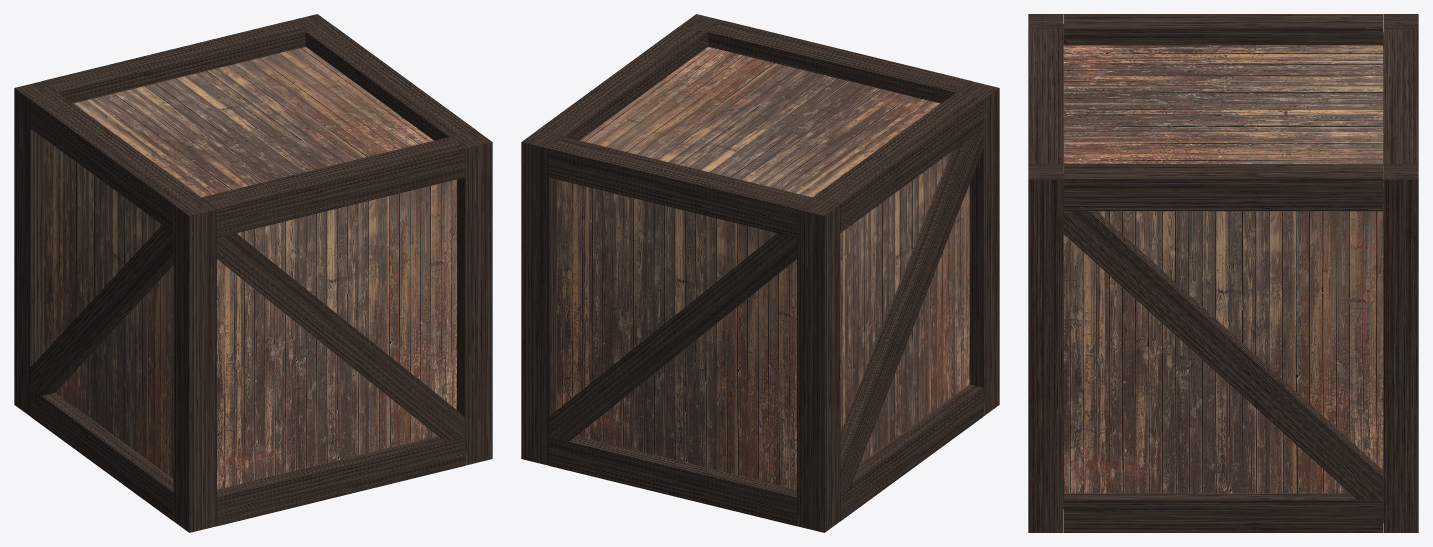
3 renders of one model, left to right at view 1: azimuth 30°, elevation 25°; view 2: azimuth 150°, elevation 25°; view 3: azimuth 270°, elevation 25°, orthographic. The views are drawn at different scales.
Visible parts, largest first — view 1: もとの, 横, 横_3, たて_2_3, naname, たて_2_2, 横_2, たて, たて_1_2, naname_3, たて_3, たて_2; view 2: もとの, 横_2, 横_1, たて_1_2, naname_3, naname_1, たて_3_2, 横, たて, たて_2_3, たて_2, たて_3; view 3: もとの, naname_2, たて_2, 横_3, 横_1, たて_1, たて, たて_1_2, たて_2_3, 横_2, 横.
Boxes of the visible parts, x1,y1,x2,y2 form: もとの: (44, 47, 456, 489); 横: (173, 198, 216, 532); 横_3: (449, 130, 492, 465); たて_2_3: (201, 137, 464, 237); naname: (217, 233, 464, 441); たて_2_2: (217, 436, 464, 526); 横_2: (14, 81, 57, 415); たて: (30, 93, 200, 232); たて_1_2: (42, 20, 305, 103); naname_3: (30, 225, 173, 395); たて_3: (30, 388, 173, 521); たて_2: (306, 25, 476, 140); もとの: (557, 47, 969, 489); 横_2: (797, 198, 840, 532); 横_1: (521, 130, 564, 465); たて_1_2: (549, 137, 812, 237); naname_3: (840, 128, 983, 492); naname_1: (549, 233, 796, 441); たて_3_2: (549, 436, 796, 526); 横: (956, 81, 999, 415); たて: (813, 93, 983, 232); たて_2_3: (708, 20, 971, 103); たて_2: (537, 25, 707, 140); たて_3: (840, 384, 983, 521); もとの: (1063, 45, 1383, 508); naname_2: (1063, 174, 1383, 522); たて_2: (1064, 164, 1382, 211); 横_3: (1028, 164, 1063, 532); 横_1: (1383, 164, 1418, 532); たて_1: (1064, 493, 1382, 532); たて: (1064, 14, 1382, 45); たて_1_2: (1383, 29, 1418, 164); たて_2_3: (1028, 29, 1063, 164); 横_2: (1383, 14, 1418, 28); 横: (1028, 14, 1063, 28).
Size of the model in its own units: 220 by 220 by 220.
Materials: 2 (2 with a texture image).
